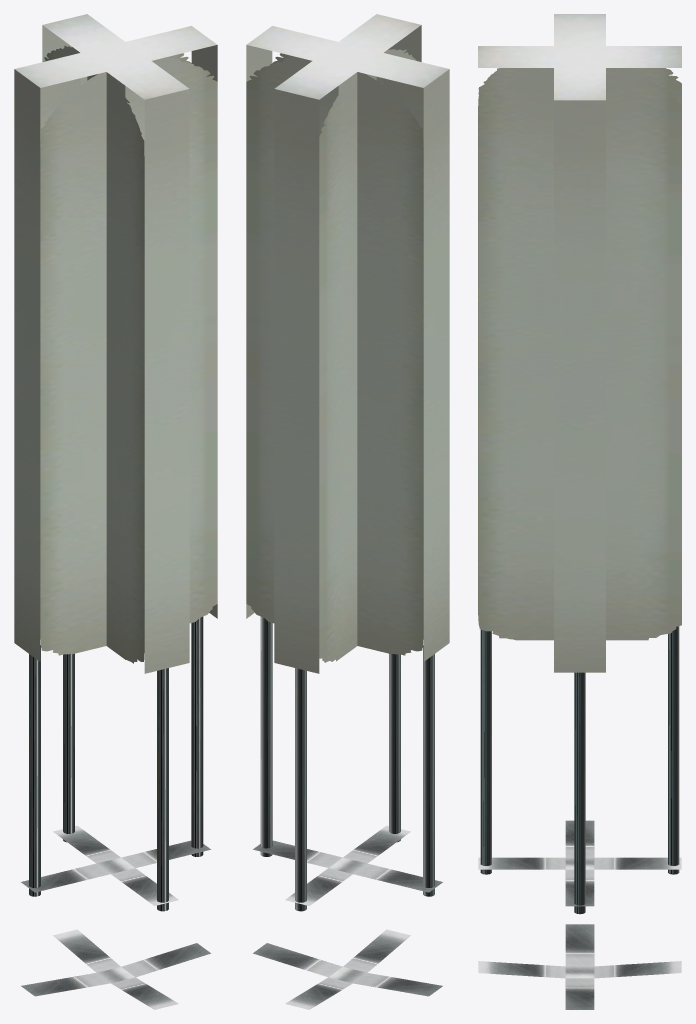
Rendered from corporate_chandelier_11.fbx.
3 renders of one model, left to right at view 1: azimuth 30°, elevation 25°; view 2: azimuth 150°, elevation 25°; view 3: azimuth 270°, elevation 25°, orthographic.
Parts seen in each view (by area): view 1: mesh_0, mesh_2, mesh_1; view 2: mesh_0, mesh_2, mesh_1; view 3: mesh_0, mesh_2, mesh_1.
Part boxes in pixels (x1,y1,x2,y2): mesh_0: [14, 14, 217, 673]; mesh_2: [29, 616, 203, 911]; mesh_1: [21, 825, 210, 1009]; mesh_0: [246, 14, 449, 673]; mesh_2: [260, 616, 434, 911]; mesh_1: [253, 825, 442, 1009]; mesh_0: [478, 14, 681, 672]; mesh_2: [480, 626, 679, 914]; mesh_1: [478, 820, 681, 1009].
Size of the model in its own units: 57 by 282 by 57.
Materials: 3 (3 with a texture image).
